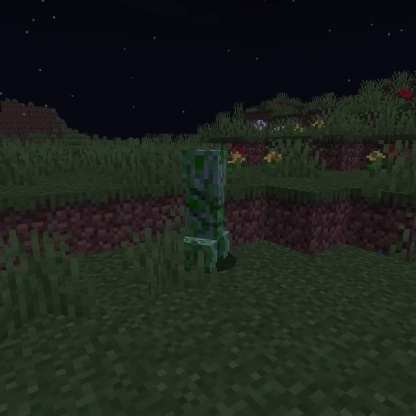creeper: (180, 147, 233, 274)
